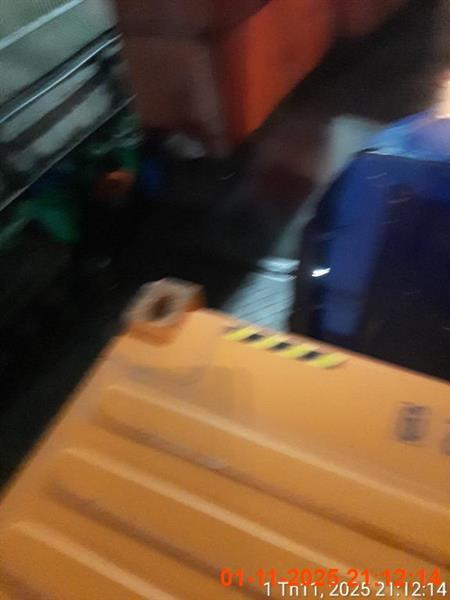broken: (0, 1, 141, 416), (290, 99, 449, 380)
